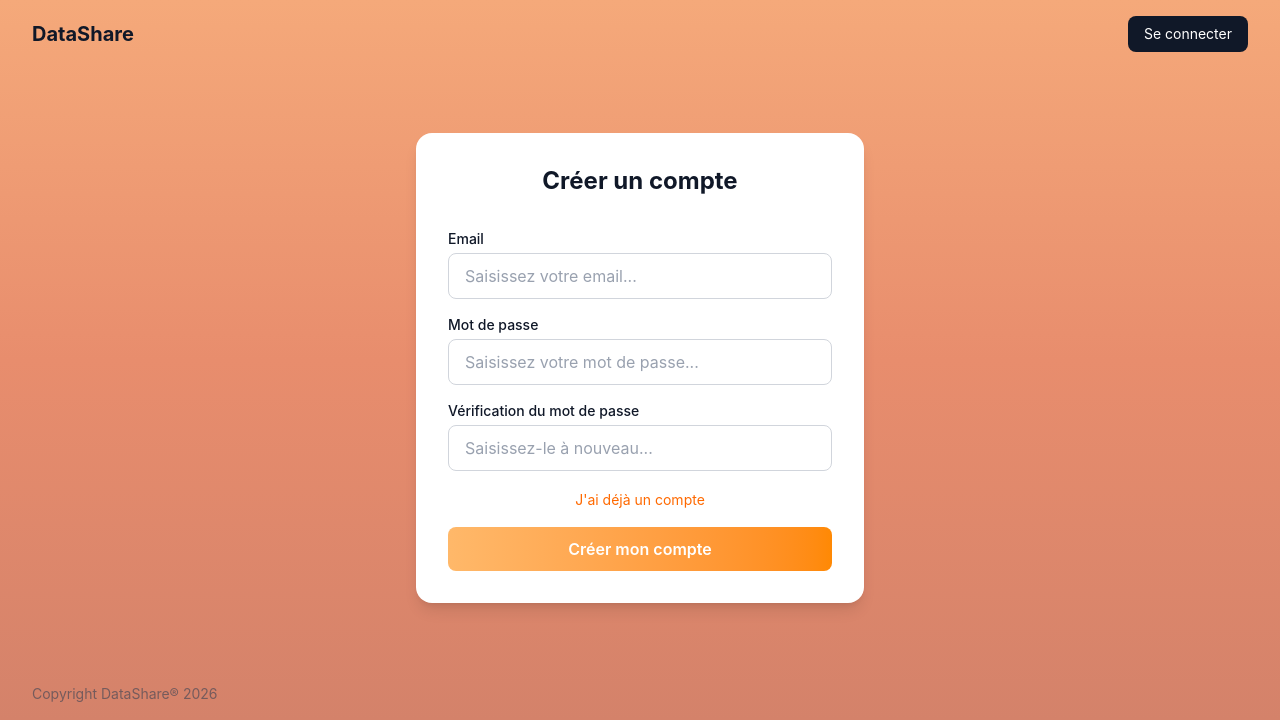
Test: Register Component (Integration) › affiche une erreur si l API renvoie que l email est deja utilisé
This screenshot has width=1280, height=720.
Type "test@test.com" into the field with placeholder "Saisissez votre email...". click: x=640, y=276
box: [448,253,832,299]
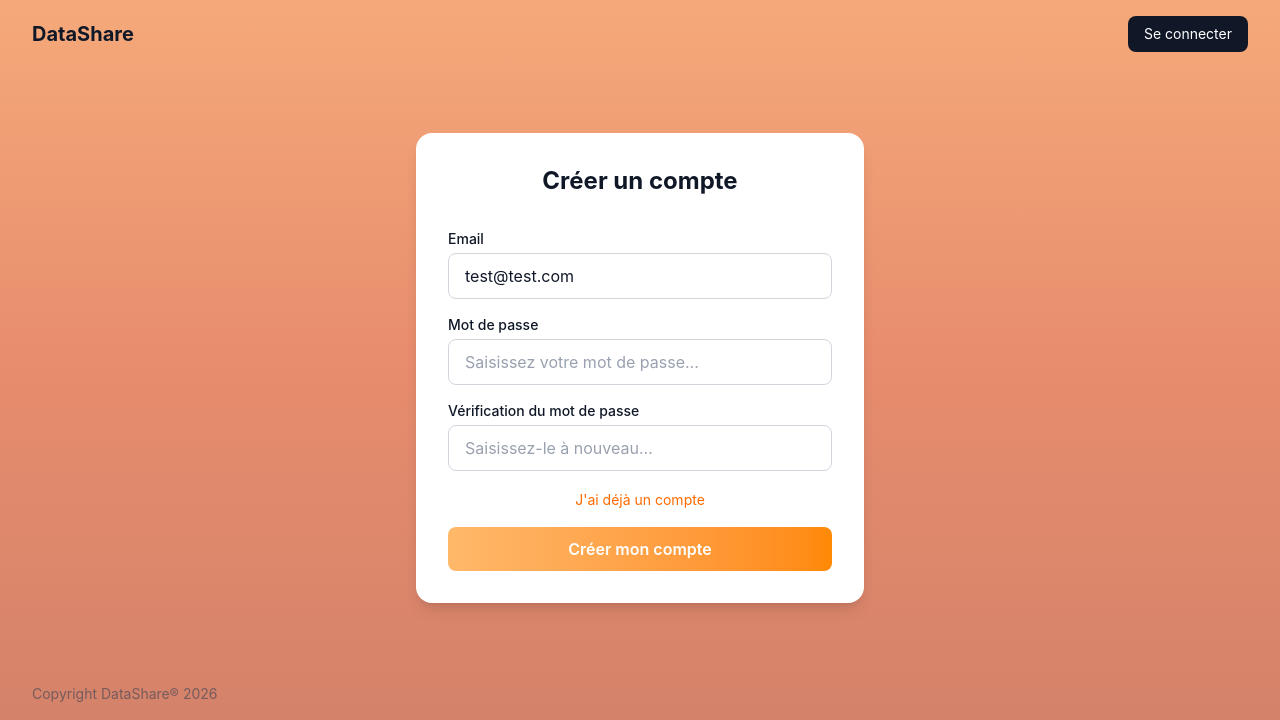
Type "password123" into the password field with placeholder "Saisissez votre mot de passe...". click: x=640, y=362
box: [448,339,832,385]
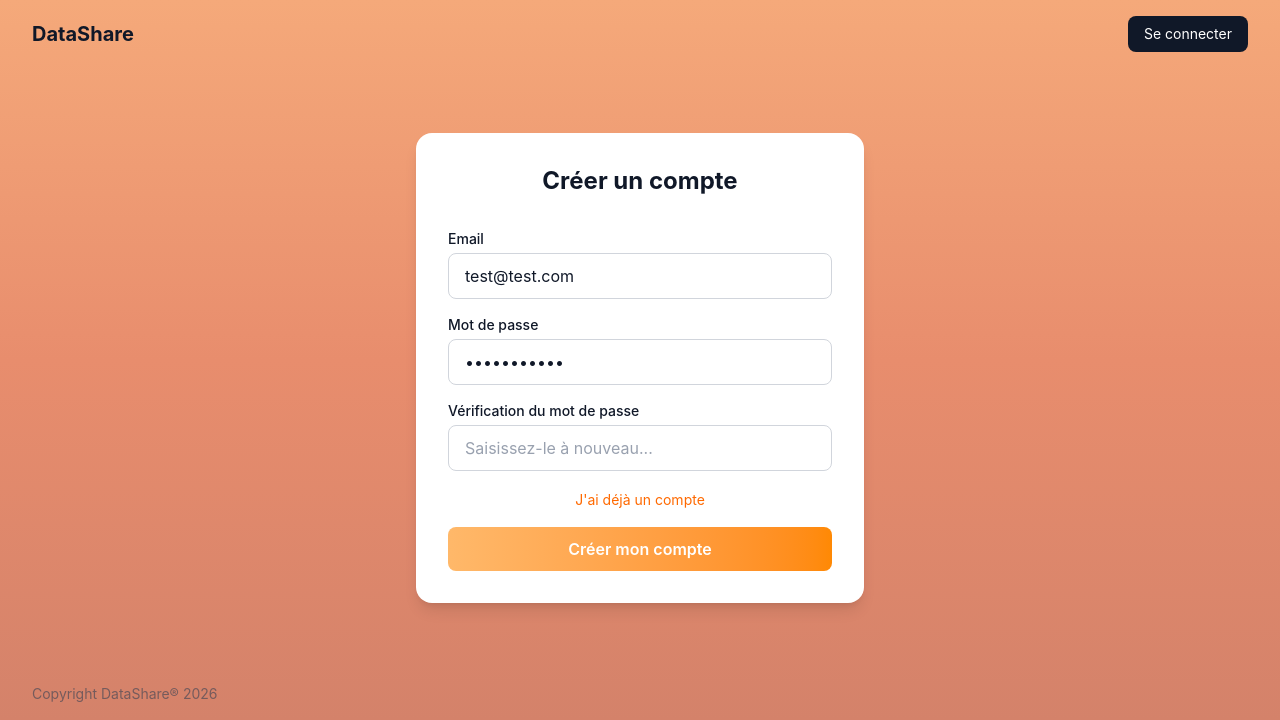
Type "password123" into the password field with placeholder "Saisissez-le à nouveau...". click: x=640, y=448
box: [448,425,832,471]
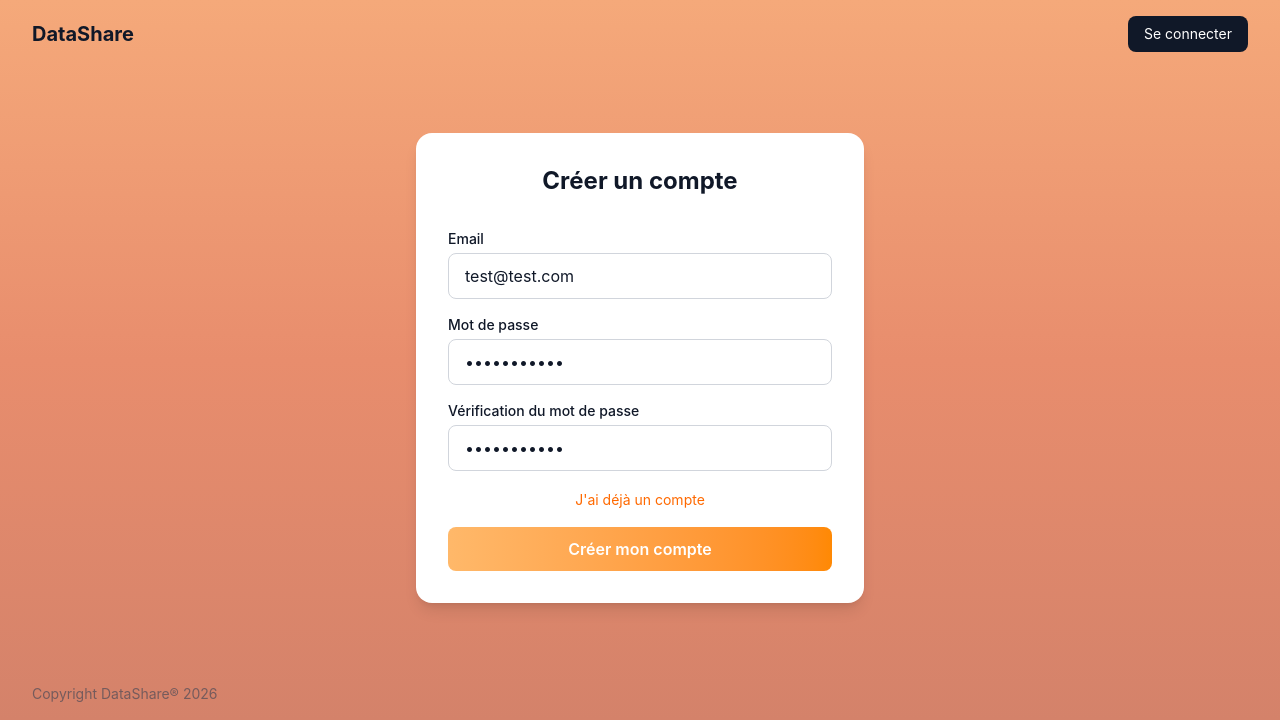
Click the button "Créer mon compte". click: x=640, y=549
box: [448,527,832,571]
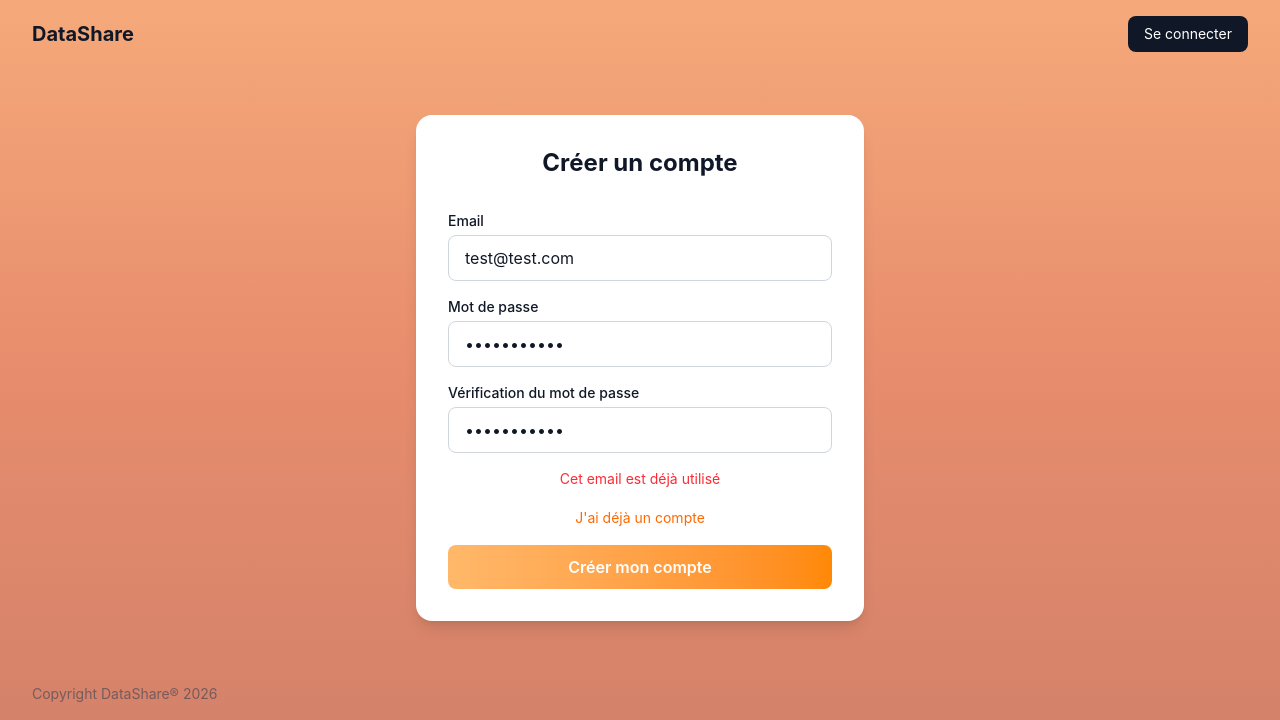
Expected: the text "Cet email est déjà utilisé" is shown, [560,470,720,487]
